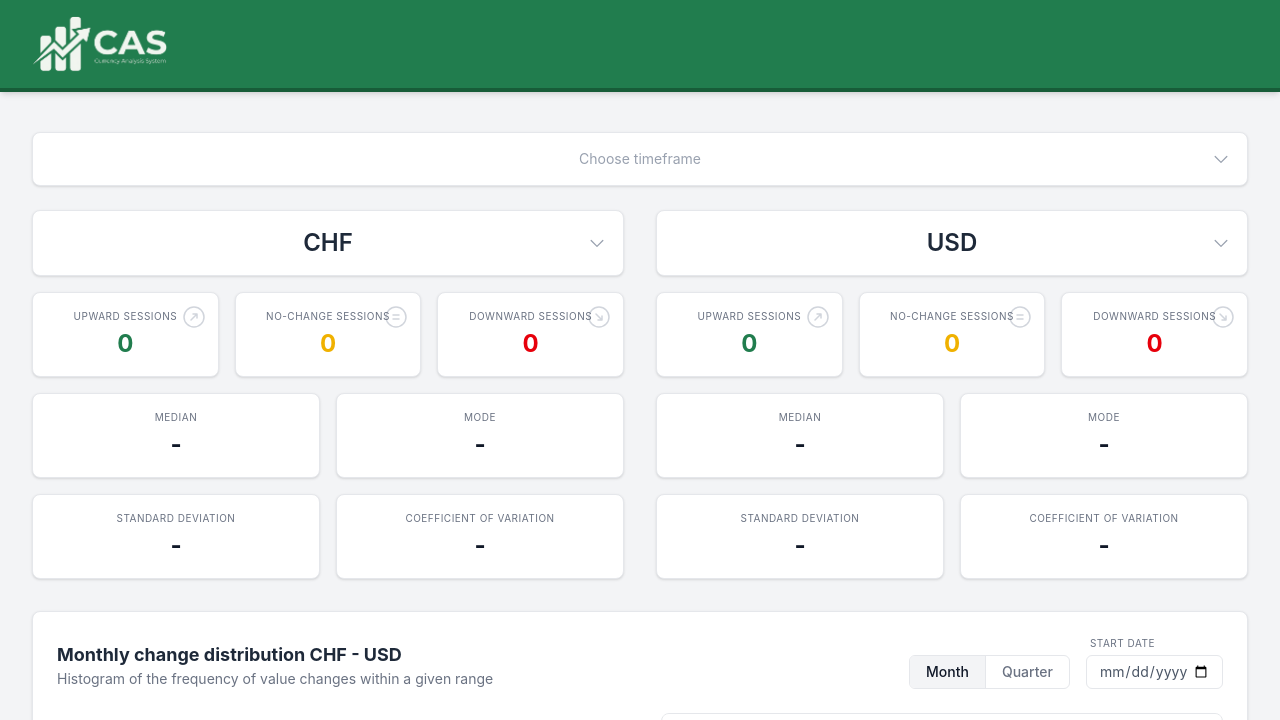
Test case: Dashboard Component › toggles distribution mode between Month and Quarter
Click the button "Quarter": click(1027, 672) [985, 656, 1069, 688]
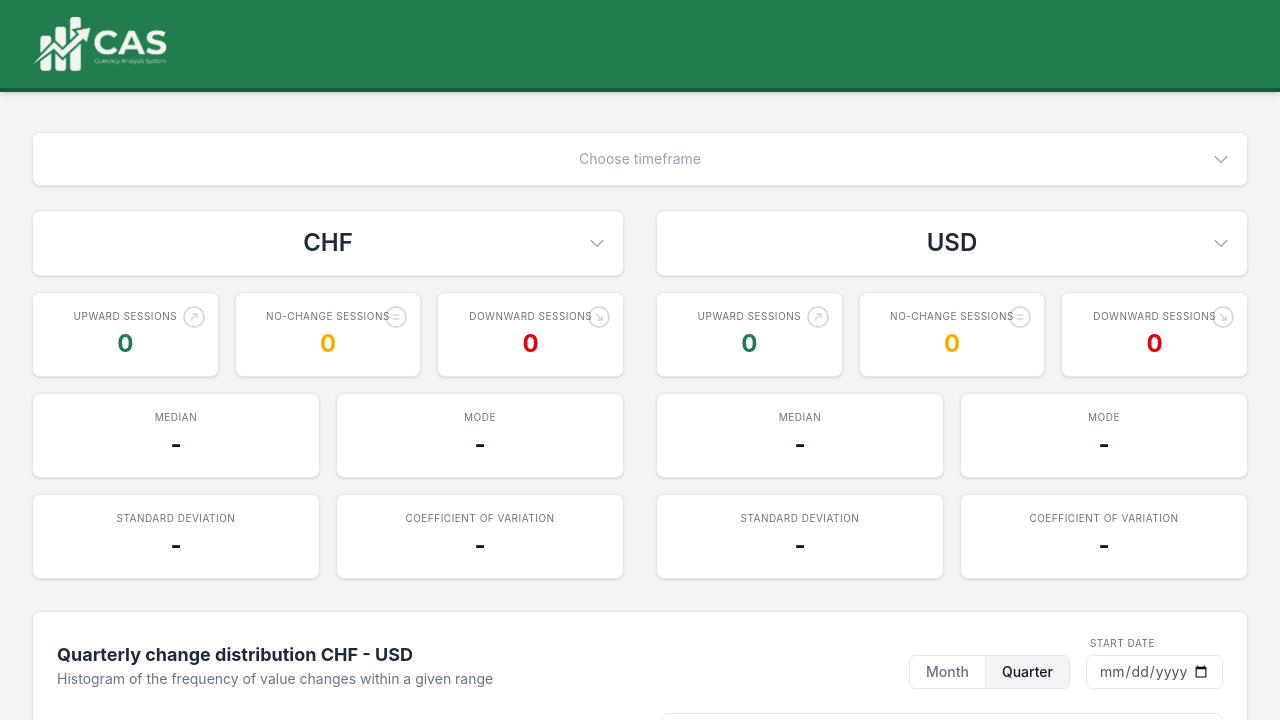
Check: the heading "Quarterly change distribution CHF - USD" is shown, box [57, 644, 413, 665]
Click the button "Month": click(948, 672) [910, 656, 985, 688]
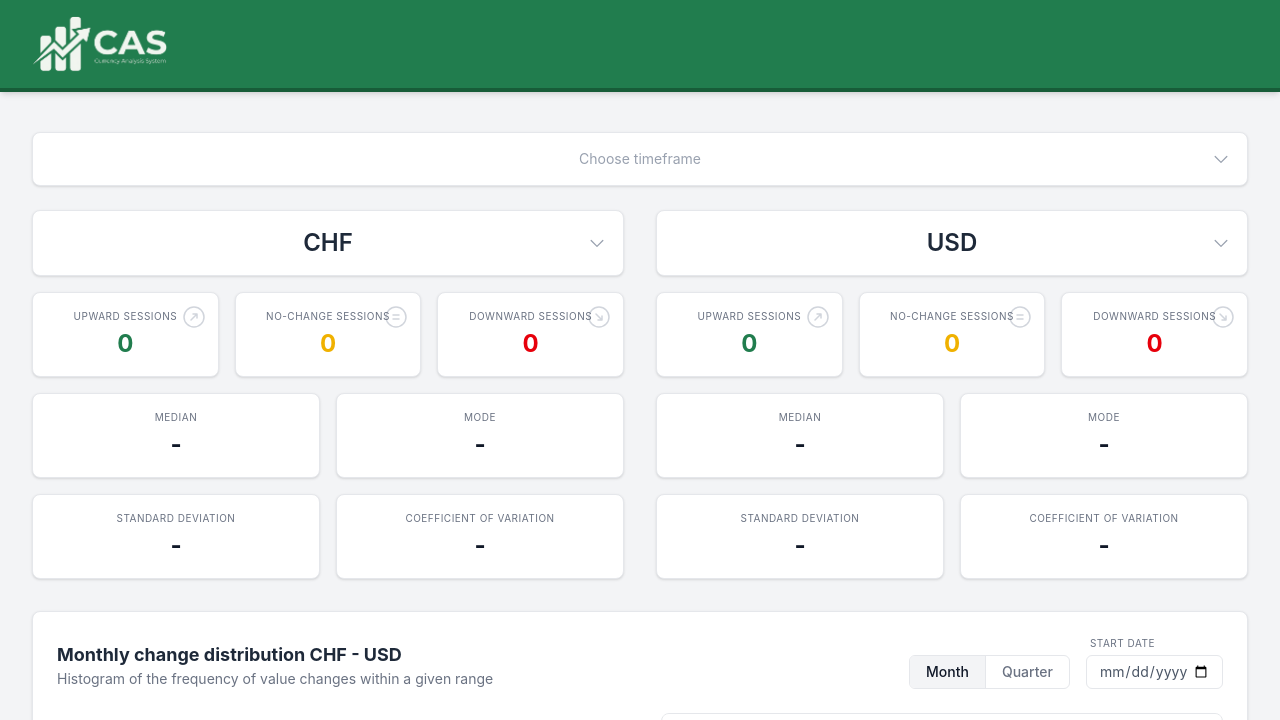
Check: the heading "Monthly change distribution CHF - USD" is shown, box [57, 644, 402, 665]
